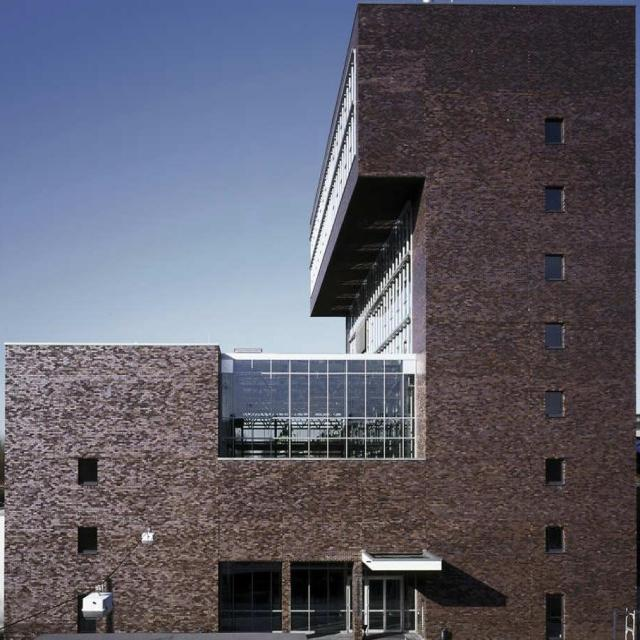door: (363, 575, 406, 633), (546, 592, 567, 639)
window: (220, 355, 415, 457), (218, 563, 283, 633), (290, 564, 353, 634), (363, 566, 414, 634), (546, 390, 565, 419), (545, 186, 563, 216), (545, 527, 567, 550), (546, 117, 564, 145), (545, 256, 566, 280), (548, 320, 566, 348), (547, 460, 568, 484)
